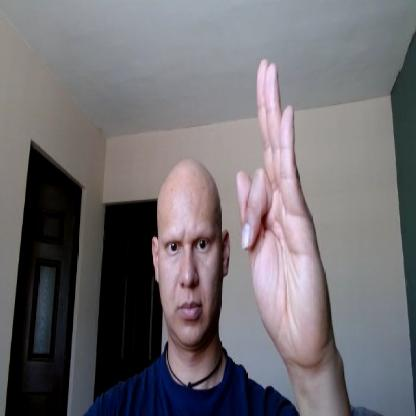F: (234, 56, 329, 368)
